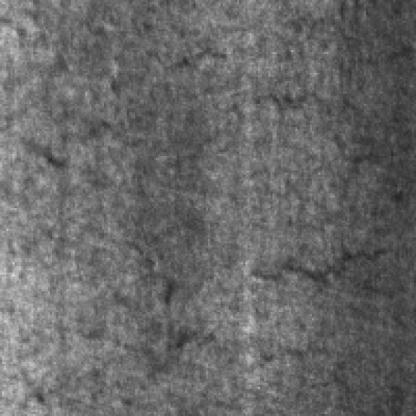crazing: (249, 83, 410, 291)
